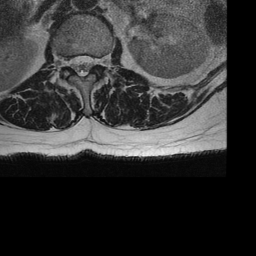CCS_normal: (78, 50, 85, 80)
LFS_normal: (94, 51, 102, 71)
LLS_normal: (86, 50, 94, 75)
RFS_normal: (61, 51, 70, 71)
RLS_normal: (70, 50, 78, 76)
